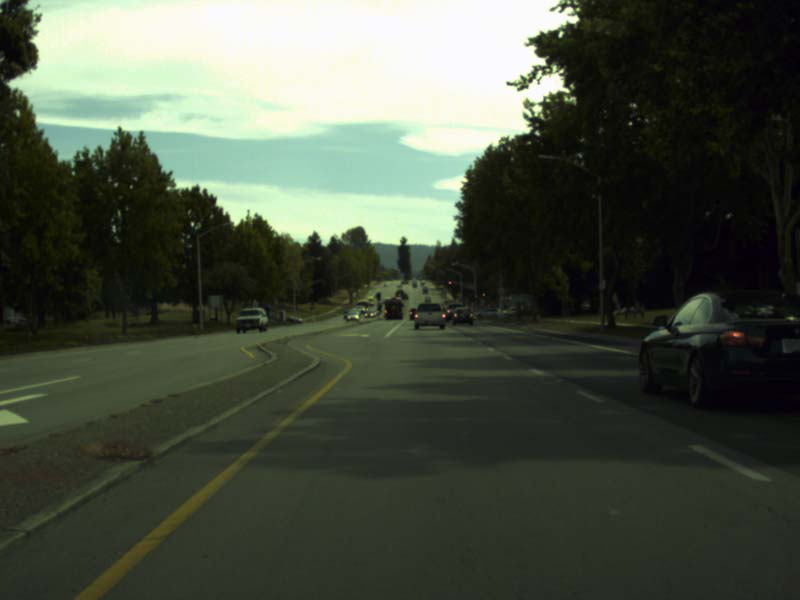Red: (481, 291, 486, 297), (447, 279, 451, 286)
